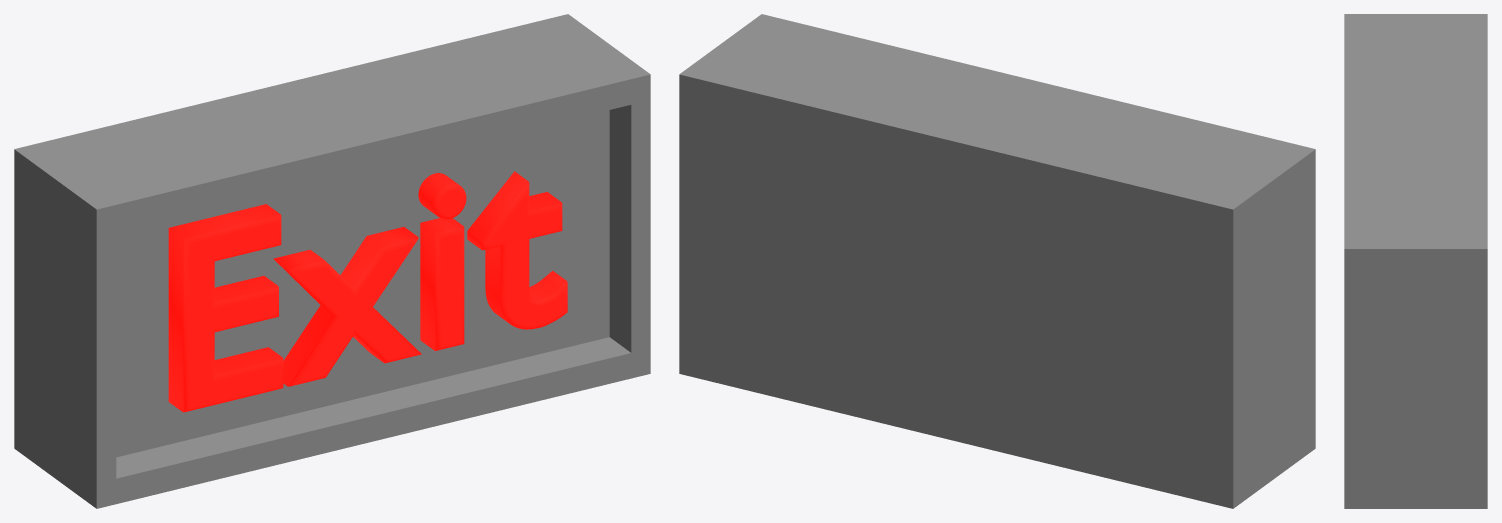
The model's file is ExitSign.fbx.
The picture shows the model from 3 angles, left to right: view 1: azimuth 30°, elevation 25°; view 2: azimuth 150°, elevation 25°; view 3: azimuth 270°, elevation 25°; orthographic projection. The views are drawn at different scales.
Parts seen in each view (by area): view 1: Cube, Text; view 2: Cube; view 3: Cube.
Boxes of the visible parts, x1=… form: Cube: x1=14, y1=14, x2=650, y2=508; Text: x1=168, y1=171, x2=567, y2=412; Cube: x1=679, y1=14, x2=1315, y2=508; Cube: x1=1344, y1=14, x2=1487, y2=508.
Size of the model in its own units: 775 by 400 by 200.
